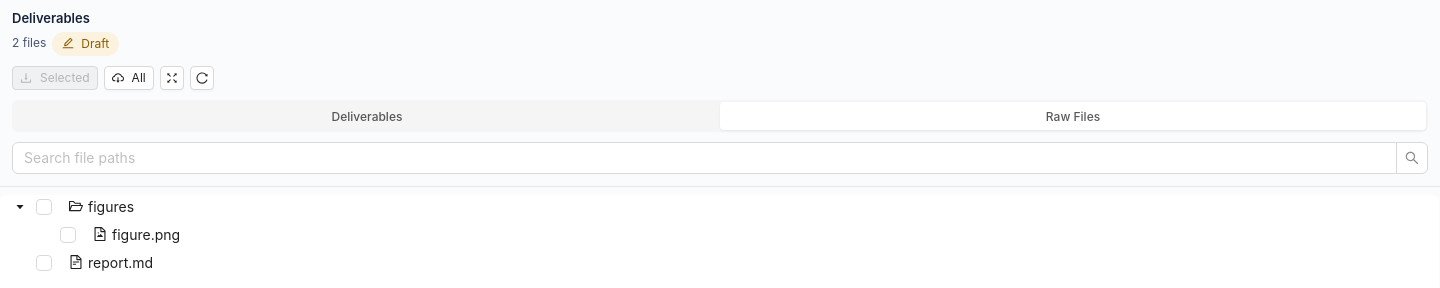
Test: ArtifactsPanel › batch download › enables Download Selected after checking a file
Expected: the text "report.md" is shown, [88,254,153,270]
Click the checkbox named "Select report.md" at (44, 262), box [36,254,52,270]
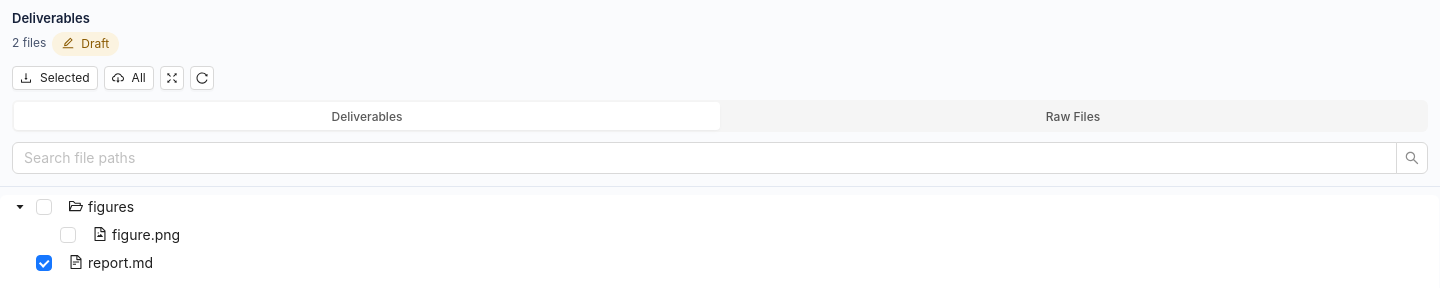
Now the button "Selected" is enabled, box [12,66,98,90]
